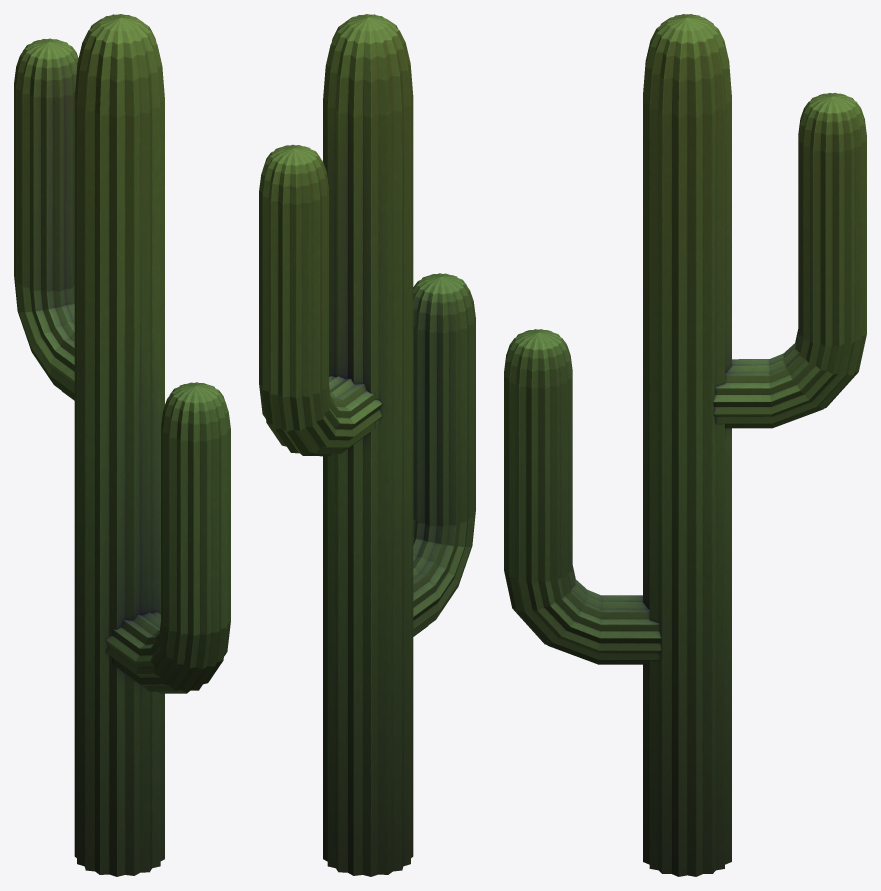
The model's file is cactus3.fbx.
3 views of the same model, side by side, from view 1: azimuth 30°, elevation 25°; view 2: azimuth 150°, elevation 25°; view 3: azimuth 270°, elevation 25° (orthographic).
Visible parts, largest first — view 1: polySurface17; view 2: polySurface17; view 3: polySurface17.
Boxes of the visible parts, left/top/right/bottom form: polySurface17: left=14, top=14, right=230, bottom=876; polySurface17: left=259, top=14, right=475, bottom=876; polySurface17: left=504, top=14, right=866, bottom=876.
Bounding box in the file's own units: 2.85 × 29.7 × 11.62.
